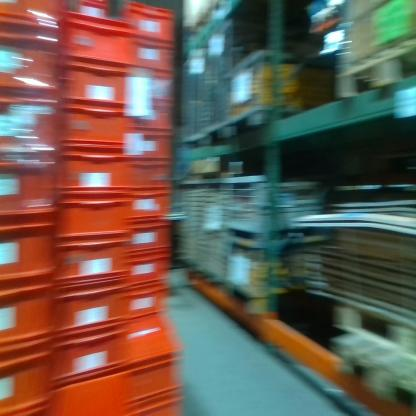pallet: (327, 329, 416, 404), (331, 38, 415, 102), (328, 293, 415, 351)
small_load_carrier: (50, 317, 134, 387), (124, 315, 180, 404), (60, 8, 139, 70), (53, 239, 132, 294), (0, 291, 54, 369), (2, 28, 59, 101), (0, 155, 56, 229), (51, 367, 131, 415), (1, 222, 55, 291), (58, 282, 134, 329), (56, 194, 132, 240), (2, 95, 60, 155), (55, 147, 127, 194), (60, 106, 130, 147), (62, 64, 129, 105), (121, 1, 178, 45), (1, 356, 51, 405), (114, 251, 173, 289), (1, 1, 62, 36), (116, 284, 168, 325), (124, 39, 175, 73), (122, 223, 173, 257), (126, 157, 172, 194), (125, 102, 175, 134), (125, 73, 175, 102), (123, 194, 172, 223), (132, 389, 187, 414), (126, 134, 175, 157), (2, 400, 53, 414)
stillage: (204, 17, 276, 138), (223, 54, 336, 130), (222, 235, 287, 322), (221, 174, 308, 238), (198, 175, 234, 289), (181, 43, 208, 152), (177, 175, 200, 272)
